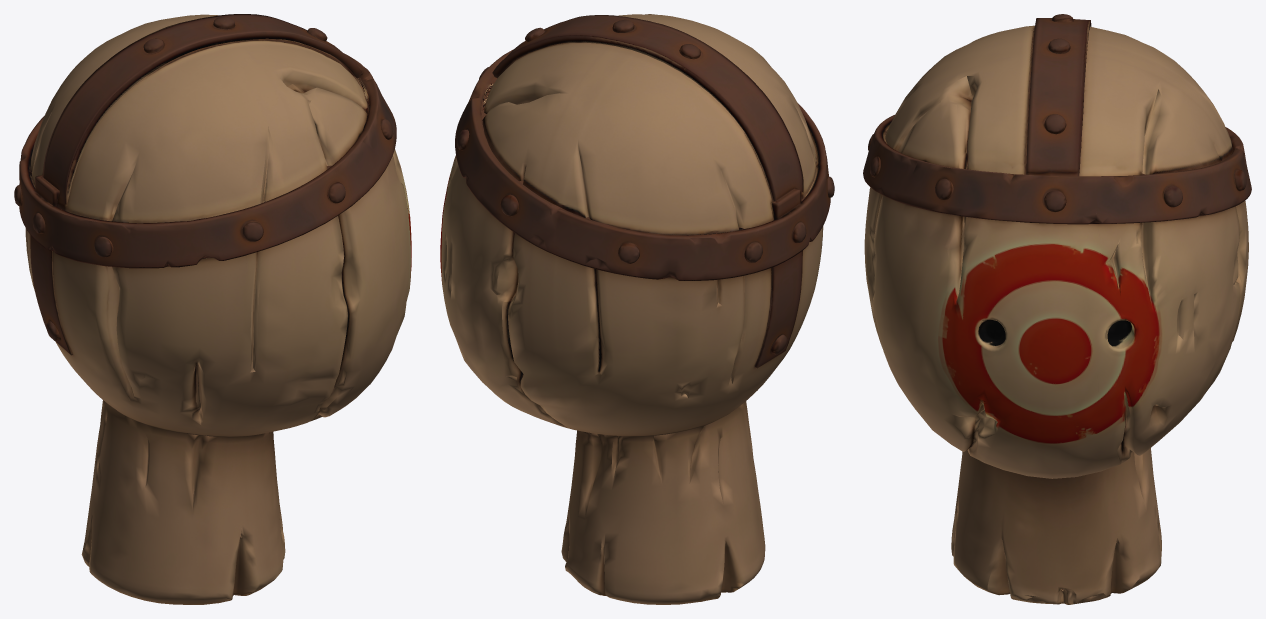
The picture shows the model from 3 angles, left to right: view 1: azimuth 30°, elevation 25°; view 2: azimuth 150°, elevation 25°; view 3: azimuth 270°, elevation 25°; orthographic projection.
Visible parts, largest first — view 1: tripo_node_bcf48a4b; view 2: tripo_node_bcf48a4b; view 3: tripo_node_bcf48a4b.
Boxes of the visible parts, x1,y1,x2,y2 form: tripo_node_bcf48a4b: [14, 14, 411, 604]; tripo_node_bcf48a4b: [440, 14, 834, 604]; tripo_node_bcf48a4b: [863, 14, 1251, 604].
Bounding box in the file's own units: 0.6714 × 0.9995 × 0.646.
1 material, 1 textured.
